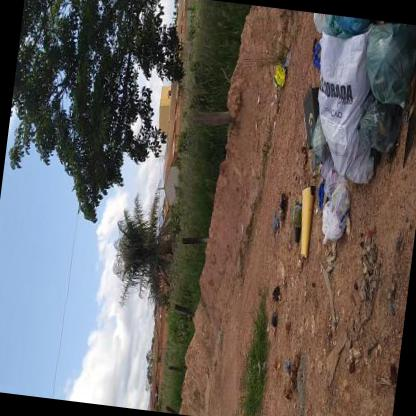lixo: (286, 12, 415, 273)
